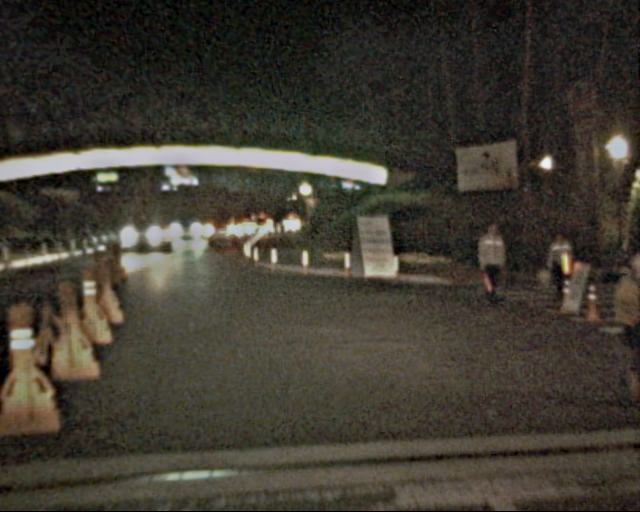person: (601, 246, 640, 388), (472, 219, 513, 310), (543, 231, 575, 301)
